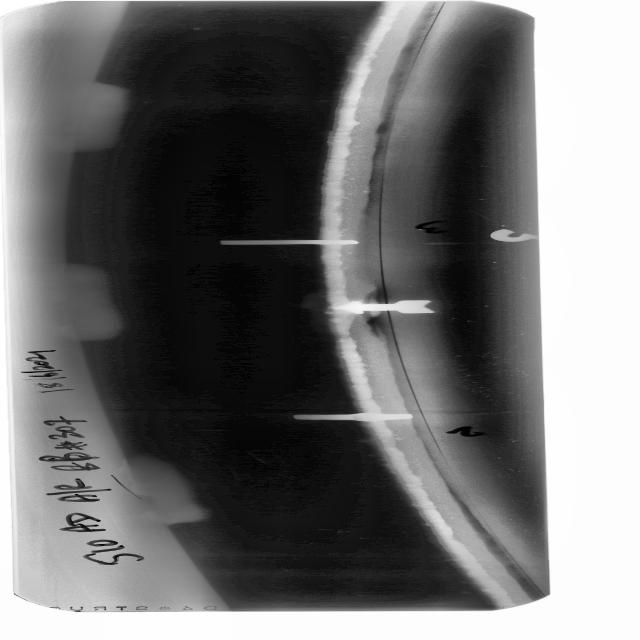LOP: (373, 305, 430, 416), (357, 151, 397, 305), (410, 407, 446, 452)
